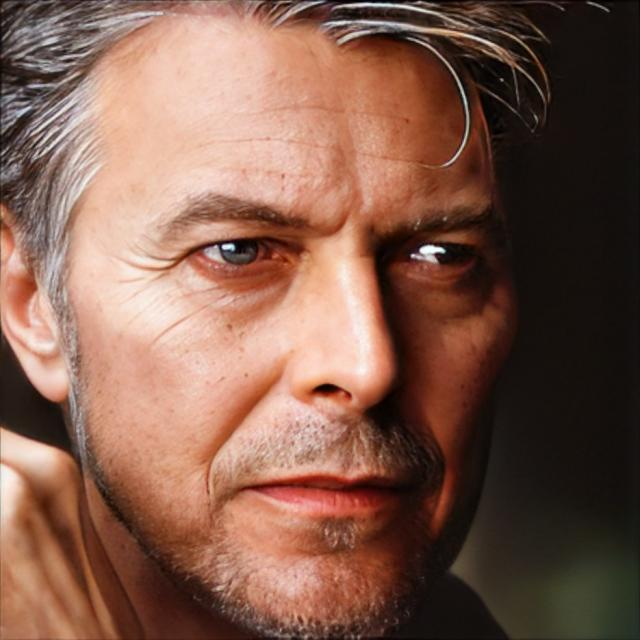anger: (100, 33, 526, 628)
